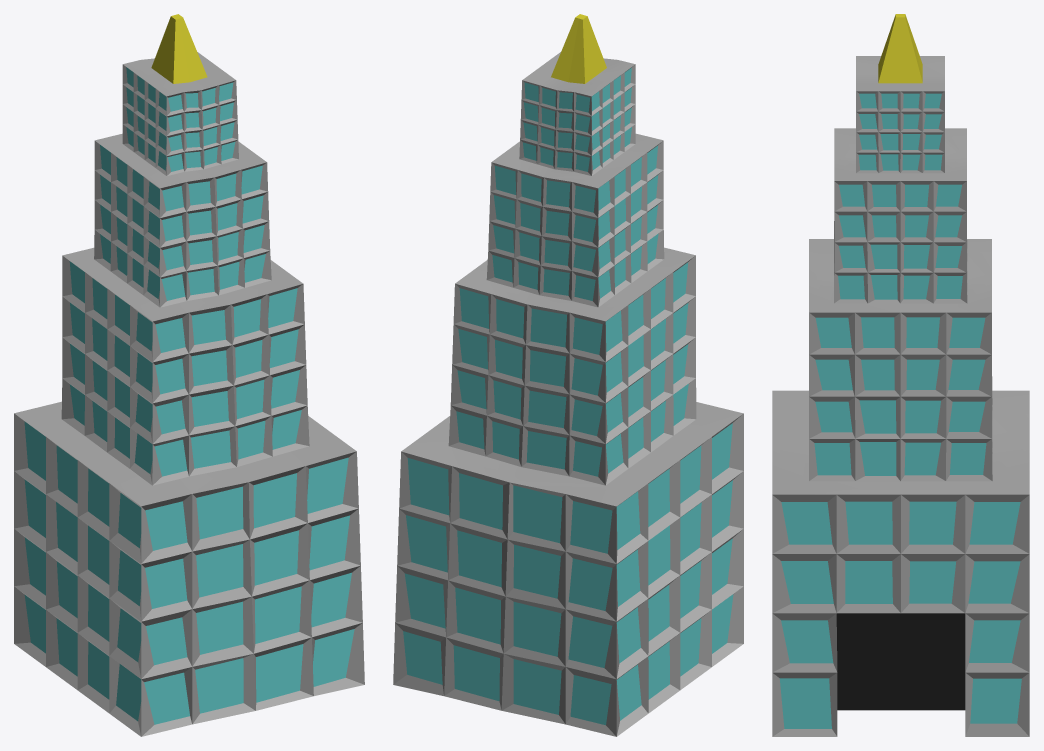
Rendered from buildingSkyscraper.fbx.
3 views of the same model, side by side, from view 1: azimuth 30°, elevation 25°; view 2: azimuth 150°, elevation 25°; view 3: azimuth 270°, elevation 25° (orthographic).
Parts seen in each view (by area): view 1: pCube15; view 2: pCube15; view 3: pCube15.
Boxes of the visible parts, <box> form: pCube15: <box>14,14,364,736</box>; pCube15: <box>393,14,743,736</box>; pCube15: <box>772,14,1029,736</box>.
Bounding box in the file's own units: 340 × 947 × 335.
